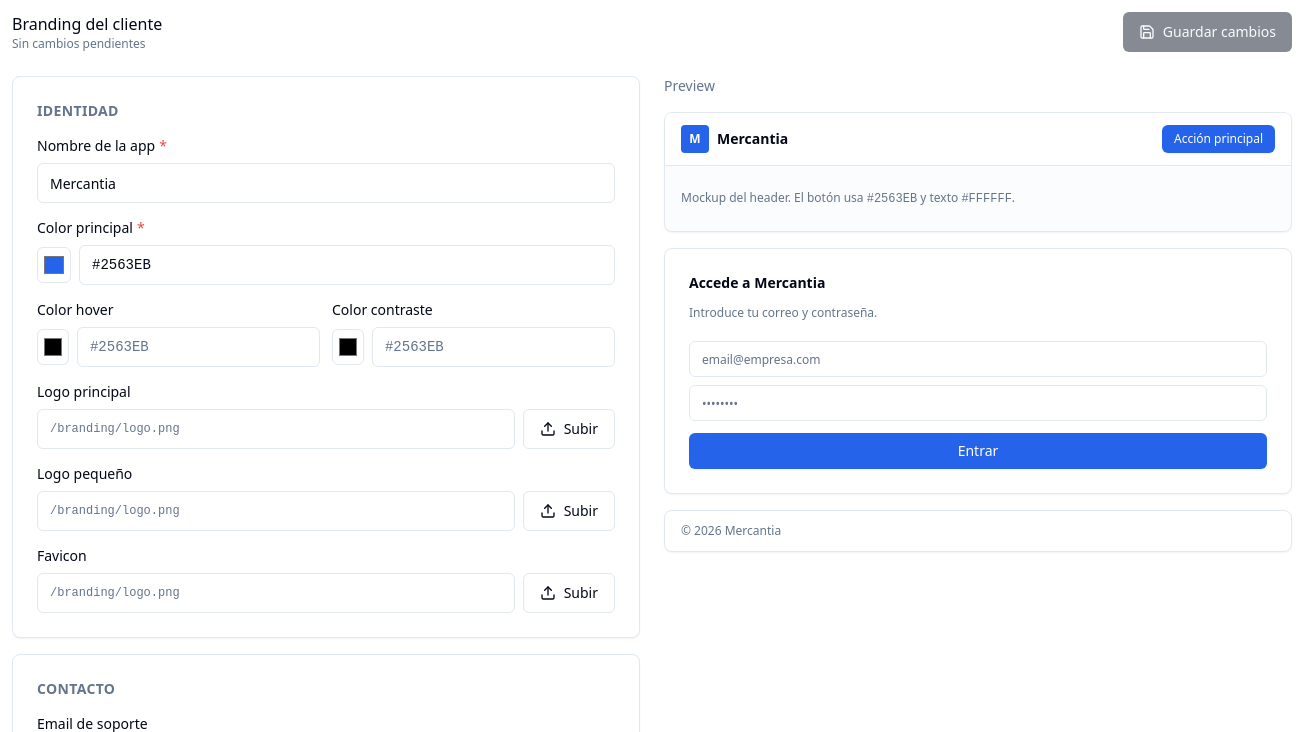
BrandingTab › blocks Save when validation fails (invalid hex)
Type "no-color" into the field labelled "Color principal*" at {"x": 347, "y": 265}, box 79,245 -> 615,285
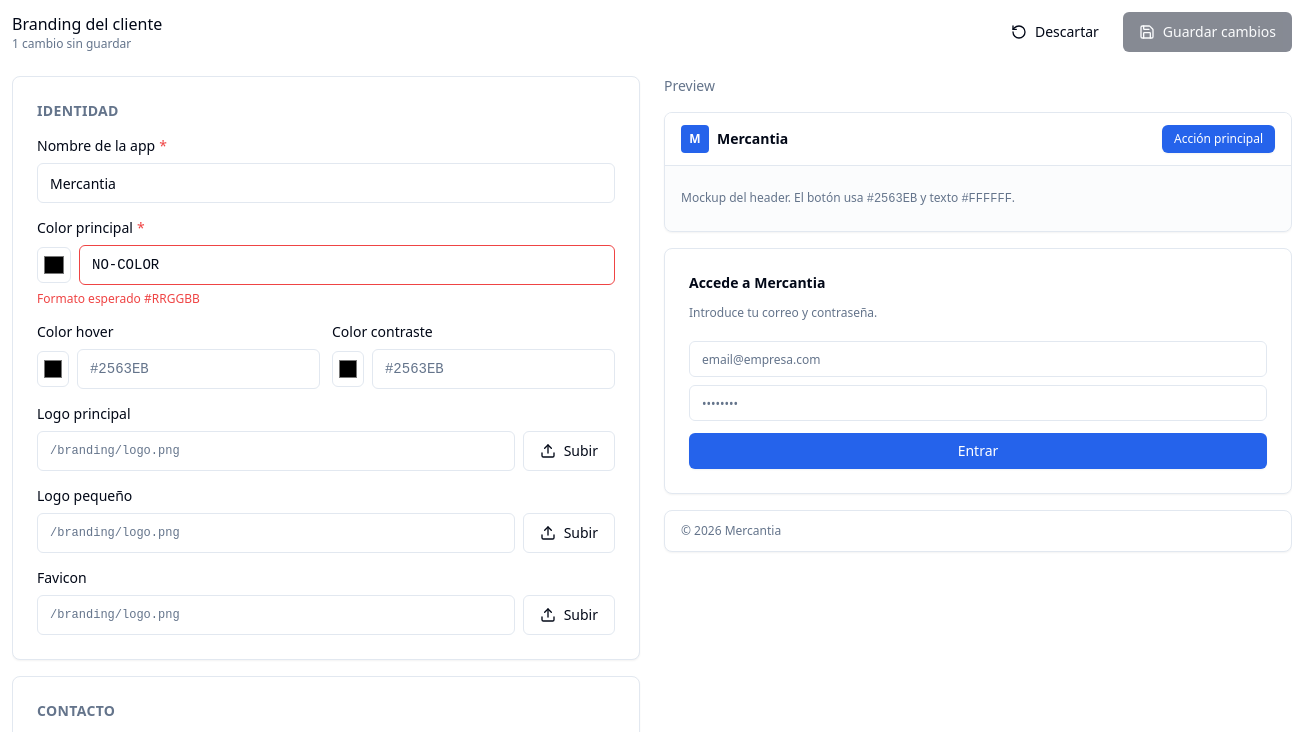
Expected: the button "Guardar cambios" is disabled, 1123,12 -> 1292,52
Now the text "Formato esperado #RRGGBB" is shown, box 37,290 -> 200,307
